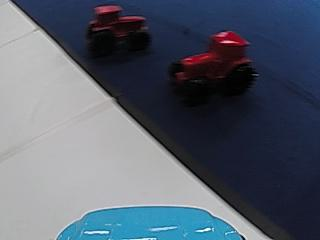Tracktor: (165, 28, 258, 96), (85, 2, 151, 52)
